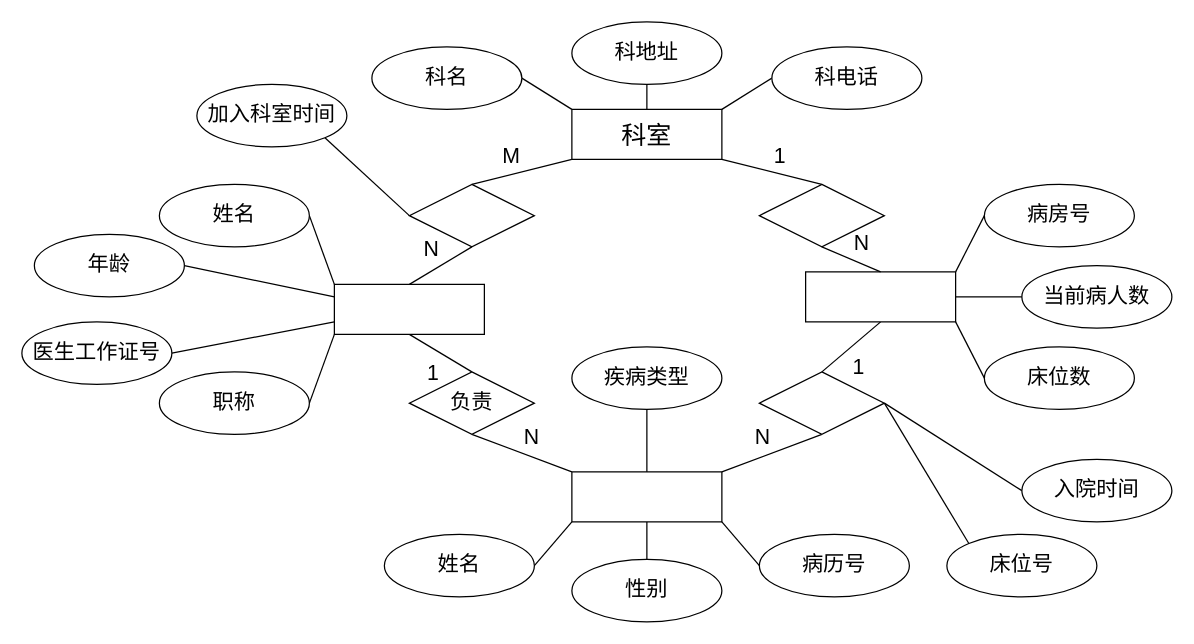
The diagram is 1194 pixels wide and 644 high, and some of its shapes have lost their labels. Here are the shapes that lost their labels. From the top down, the box of each, then its label:
(408, 183, 534, 247): 就任
(758, 183, 884, 247): 隶属
(333, 283, 484, 334): 医生
(804, 271, 956, 322): 病房
(758, 371, 884, 434): 收治
(571, 471, 722, 522): 病人
